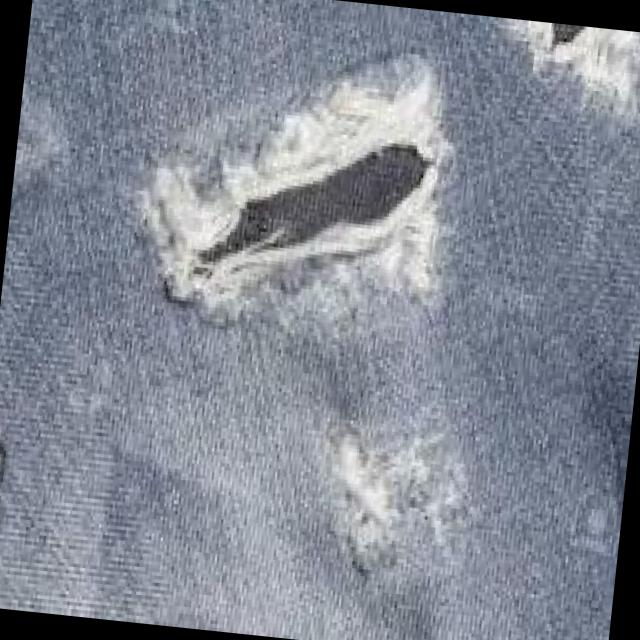cut: (183, 102, 444, 319)
